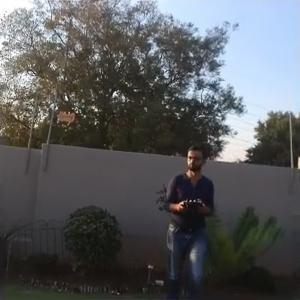follow: (159, 138, 220, 298)
